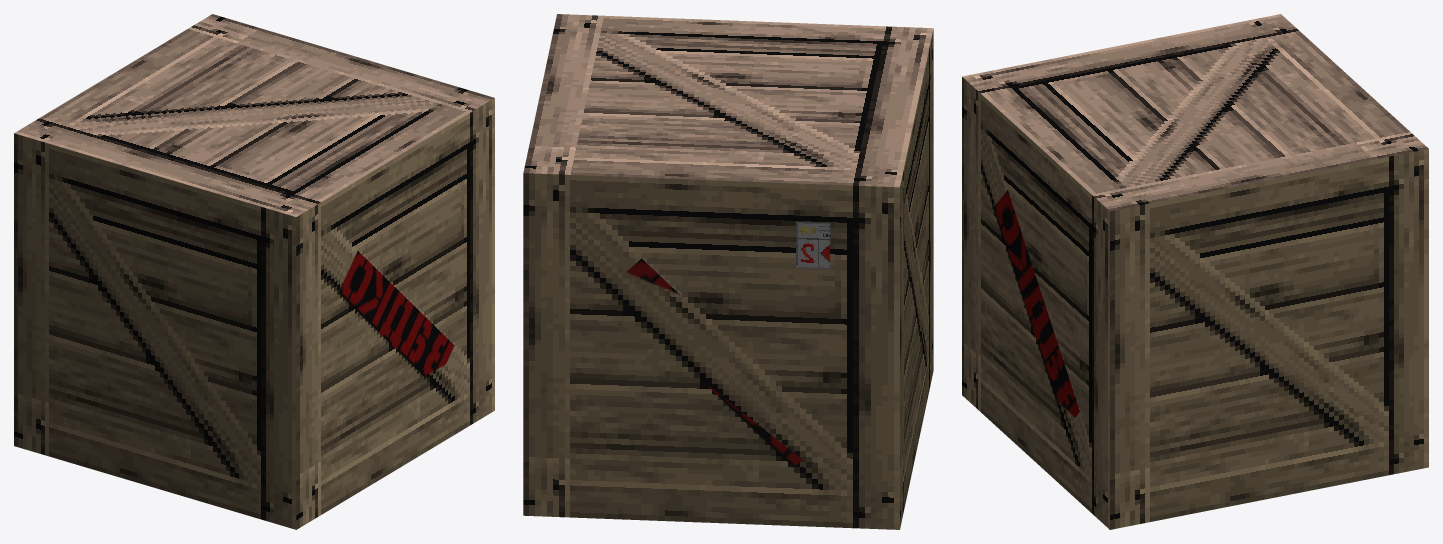
Rendered from primary_049.glb.
3 views of the same model, side by side, from view 1: azimuth 30°, elevation 25°; view 2: azimuth 150°, elevation 25°; view 3: azimuth 270°, elevation 25° (orthographic). The views are drawn at different scales.
Parts seen in each view (by area): view 1: Object; view 2: Object; view 3: Object.
Part boxes in pixels (box(x1,y1,x2,y2)): Object: box(14, 14, 494, 529); Object: box(523, 14, 933, 529); Object: box(962, 14, 1428, 529).
Bounding box in the file's own units: 1.64 × 1.23 × 1.64.
7 materials, 7 textured.
